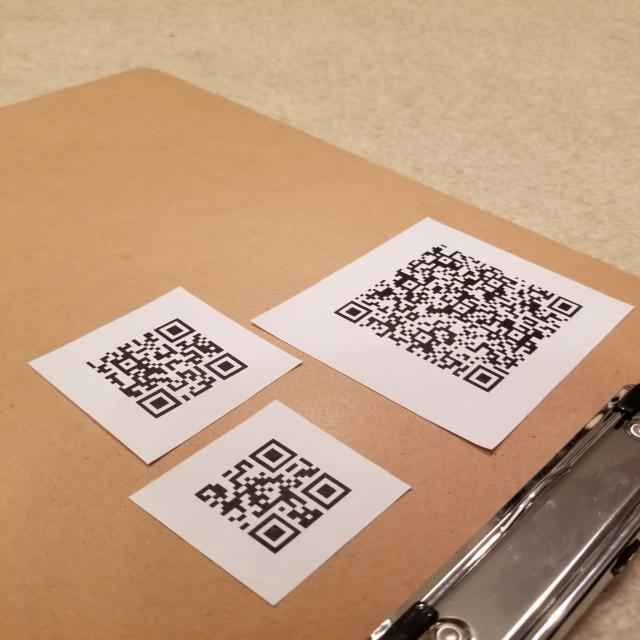QR_CODE: (327, 237, 591, 402), (184, 432, 362, 561), (79, 310, 255, 425)
